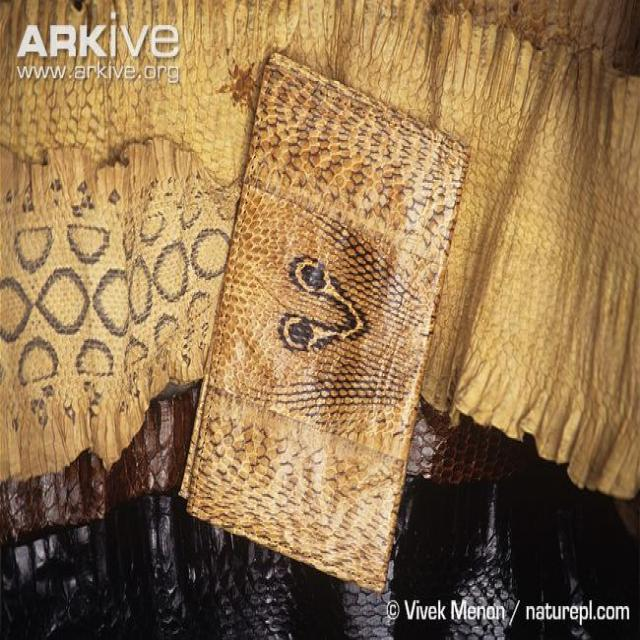Snake: (276, 252, 366, 354)
